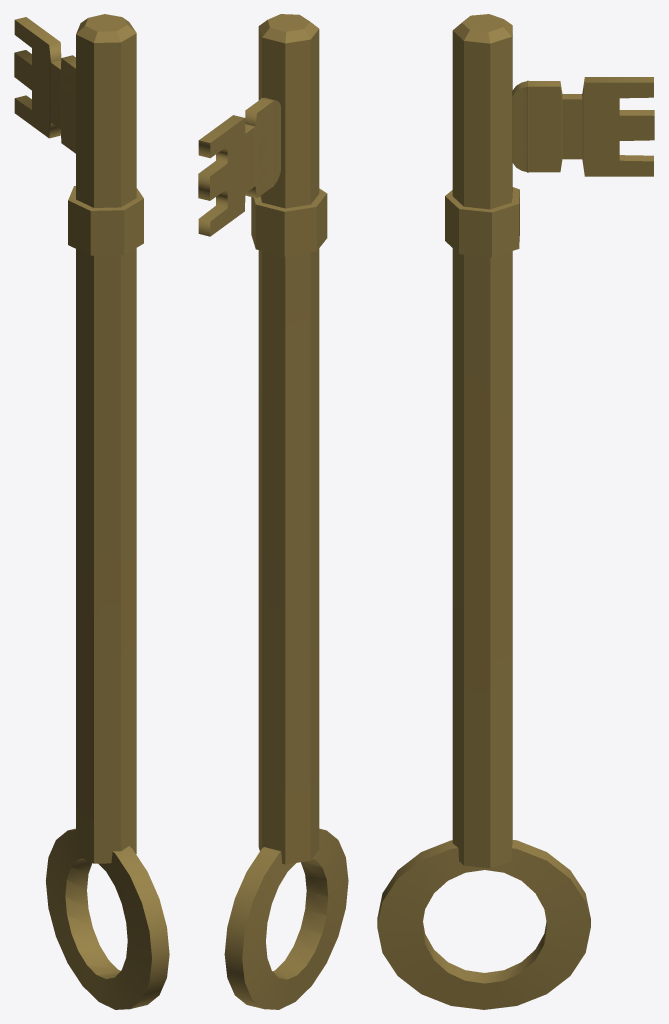
File: KeyModel.fbx
The picture shows the model from 3 angles, left to right: view 1: azimuth 30°, elevation 25°; view 2: azimuth 150°, elevation 25°; view 3: azimuth 270°, elevation 25°; orthographic projection.
Parts seen in each view (by area): view 1: Key; view 2: Key; view 3: Key.
Boxes of the visible parts, x1,y1,x2,y2 form: Key: (14, 14, 169, 1009); Key: (198, 14, 348, 1009); Key: (377, 14, 654, 1009).
Size of the model in its own units: 0.0136 by 0.1933 by 0.0495.
